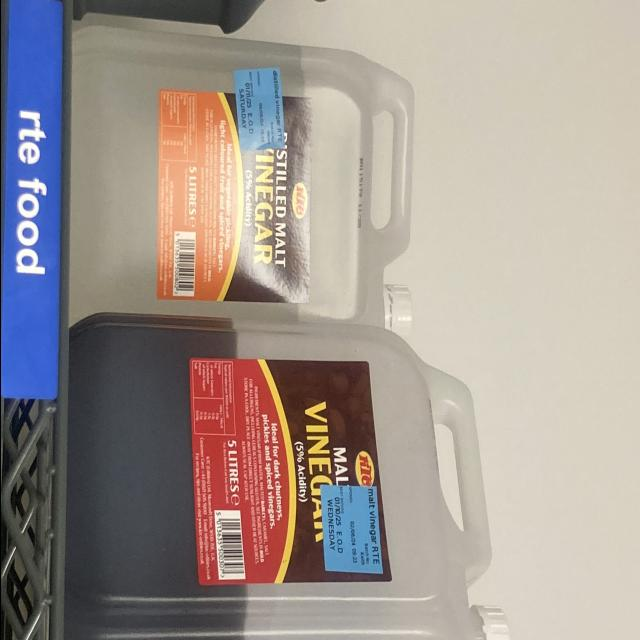product-labels: (322, 484, 383, 576), (233, 66, 285, 154)
